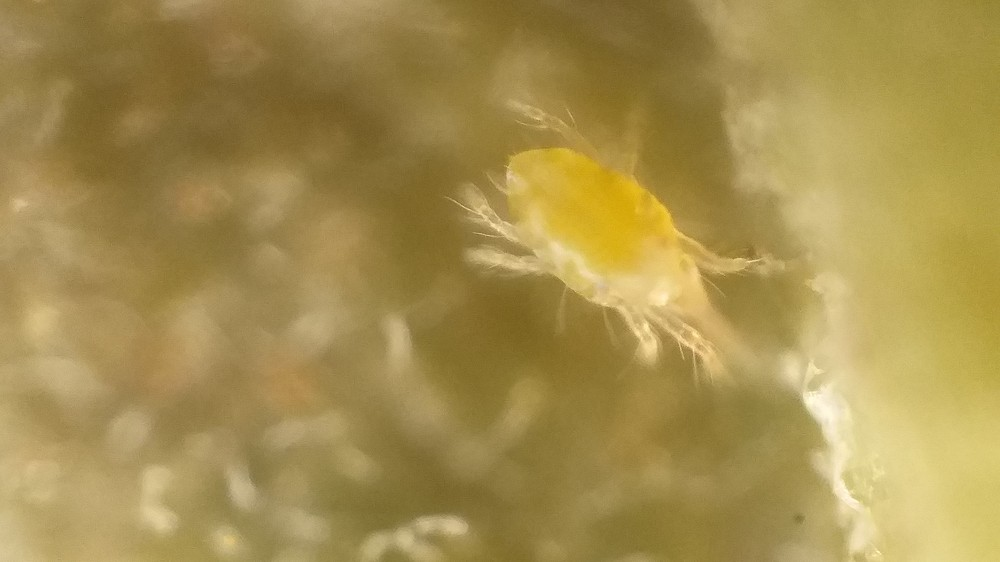Aracnido Rojo: (419, 80, 821, 435)
